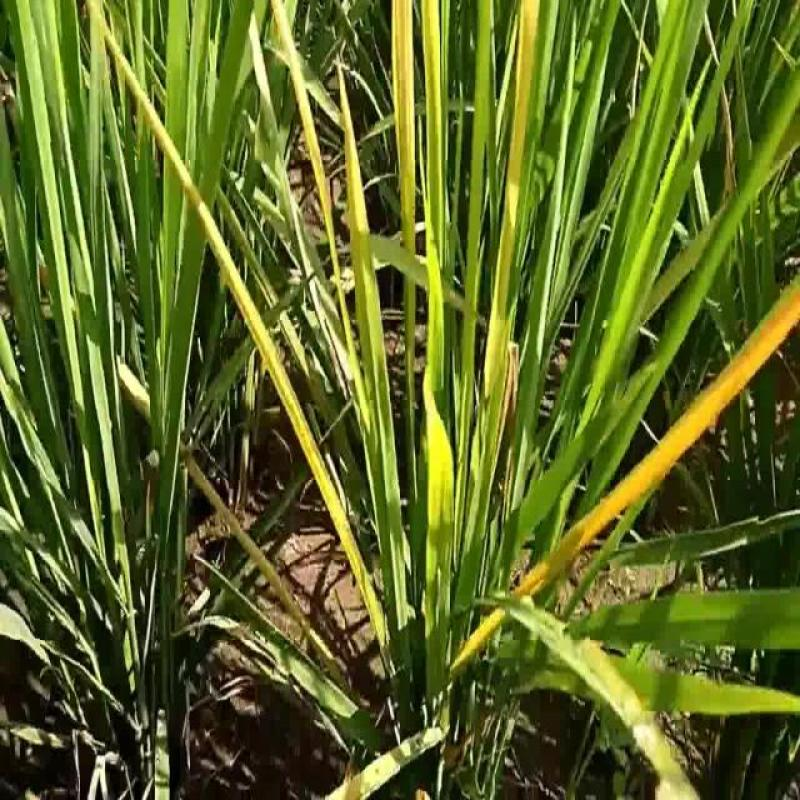Rice Tungro: (517, 267, 800, 603), (104, 21, 301, 469), (477, 3, 542, 382), (268, 2, 342, 280), (335, 48, 376, 312), (422, 5, 450, 307), (388, 4, 422, 246)
